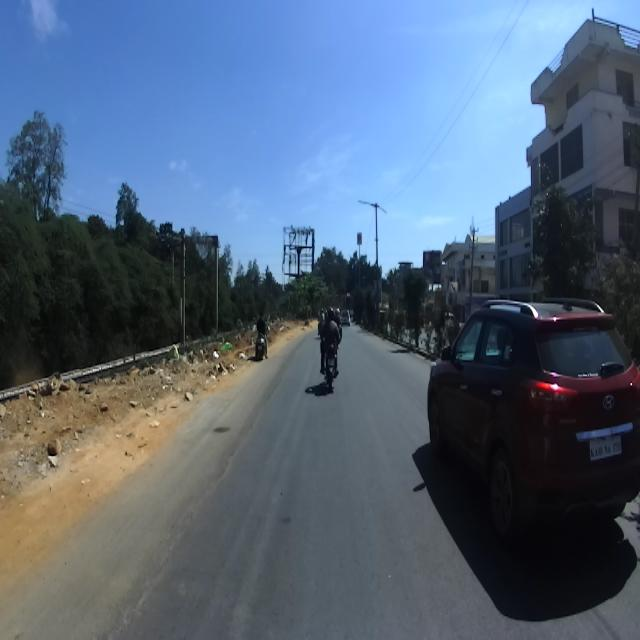car ahead at: (430, 292, 640, 567)
